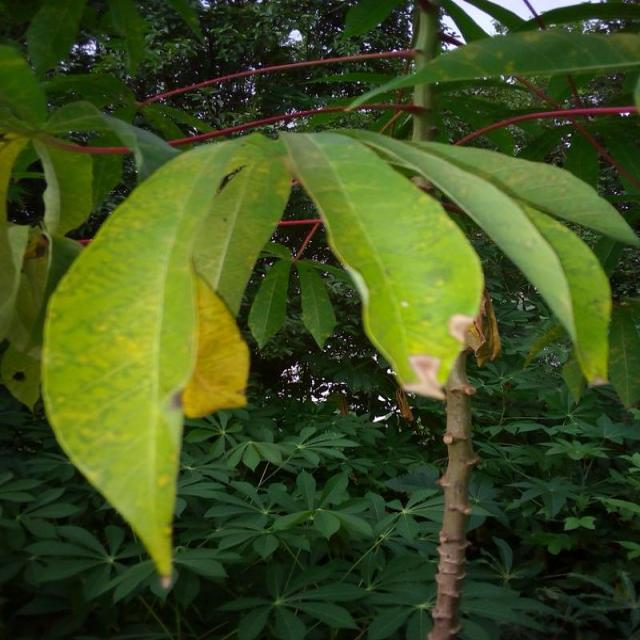cassava leaf: (40, 130, 293, 587), (280, 128, 486, 400)
